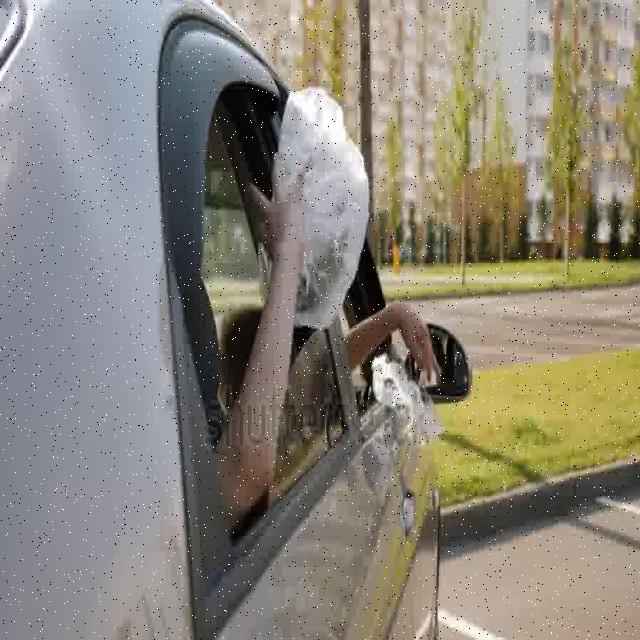trash: (266, 71, 369, 329), (363, 352, 436, 449)
